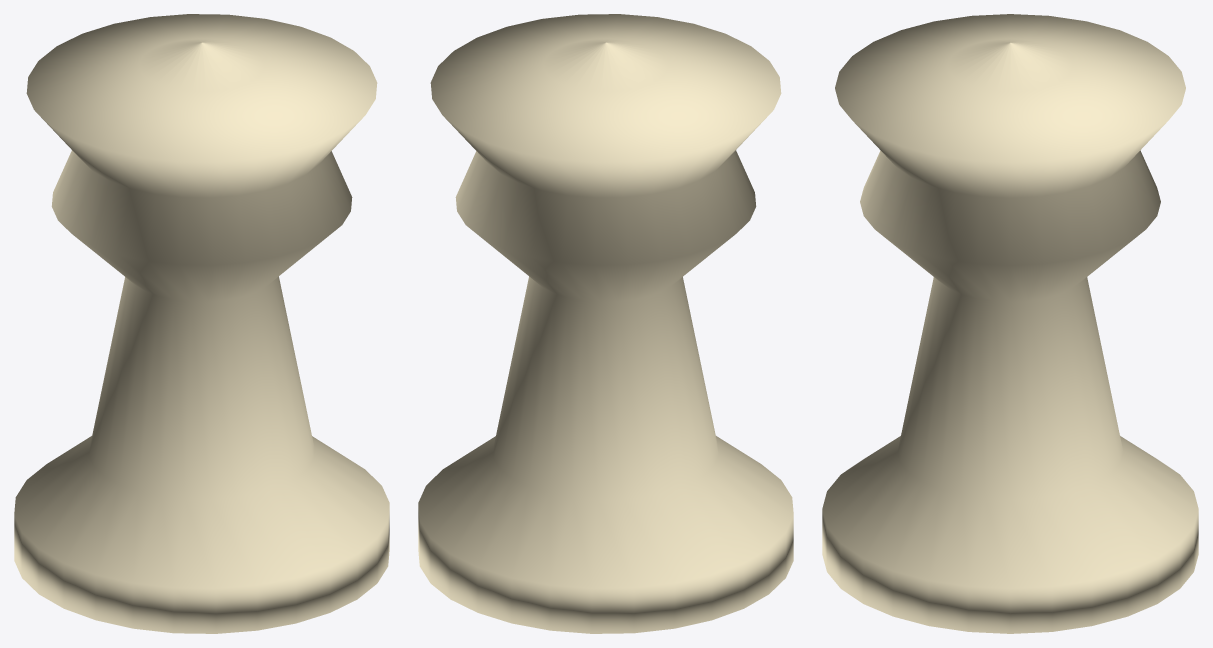
Rendered from w-queen.glb.
3 renders of one model, left to right at view 1: azimuth 30°, elevation 25°; view 2: azimuth 150°, elevation 25°; view 3: azimuth 270°, elevation 25°, orthographic.
Parts seen in each view (by area): view 1: w-queen; view 2: w-queen; view 3: w-queen.
Boxes of the visible parts, x1,y1,x2,y2 form: w-queen: [14, 14, 389, 633]; w-queen: [418, 14, 793, 633]; w-queen: [822, 14, 1198, 633].
Size of the model in its own units: 0.6 by 0.9 by 0.6.
